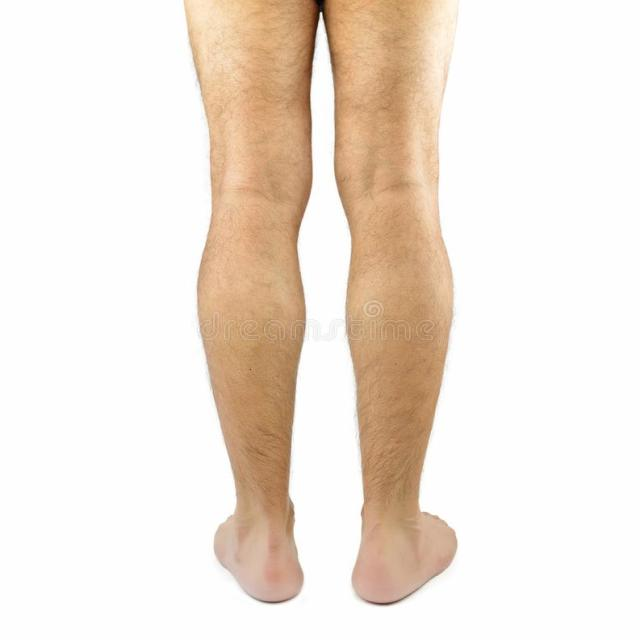Normal: (173, 103, 522, 615)
